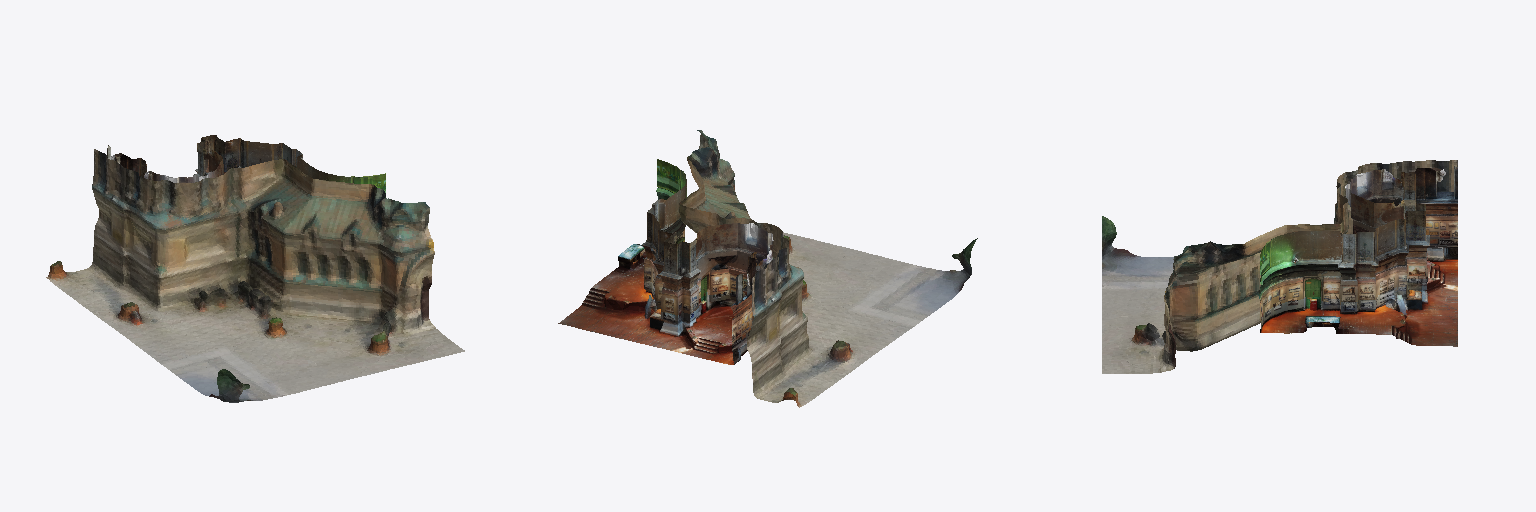
3 views of the same model, side by side, from view 1: azimuth 30°, elevation 25°; view 2: azimuth 150°, elevation 25°; view 3: azimuth 270°, elevation 25° (orthographic).
Visible parts, largest first — view 1: 1_TR; view 2: 1_TR; view 3: 1_TR.
Boxes of the visible parts, box(x1,y1,x2,y2) form: 1_TR: box(46, 135, 464, 402); 1_TR: box(558, 130, 977, 407); 1_TR: box(1102, 160, 1457, 373).
Bounding box in the file's own units: 88.65 × 42.45 × 113.
5 materials, 5 textured.